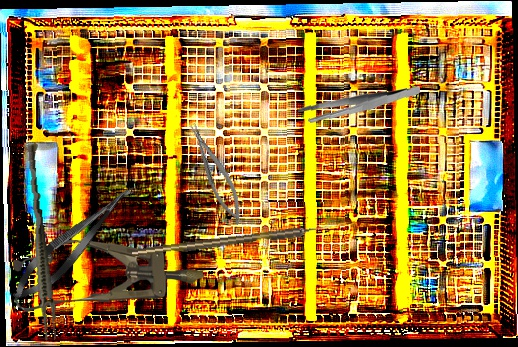Dressing Forceps: (296, 79, 421, 129)
Hook Surgical: (131, 223, 333, 259)
Micro Scissor: (3, 175, 145, 310)
Needle Holder: (184, 118, 250, 229)
Speculum: (12, 237, 205, 315)
Tissue Forceps: (19, 143, 62, 341)
